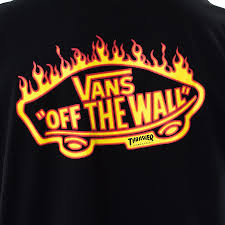vans: (71, 67, 137, 103)
